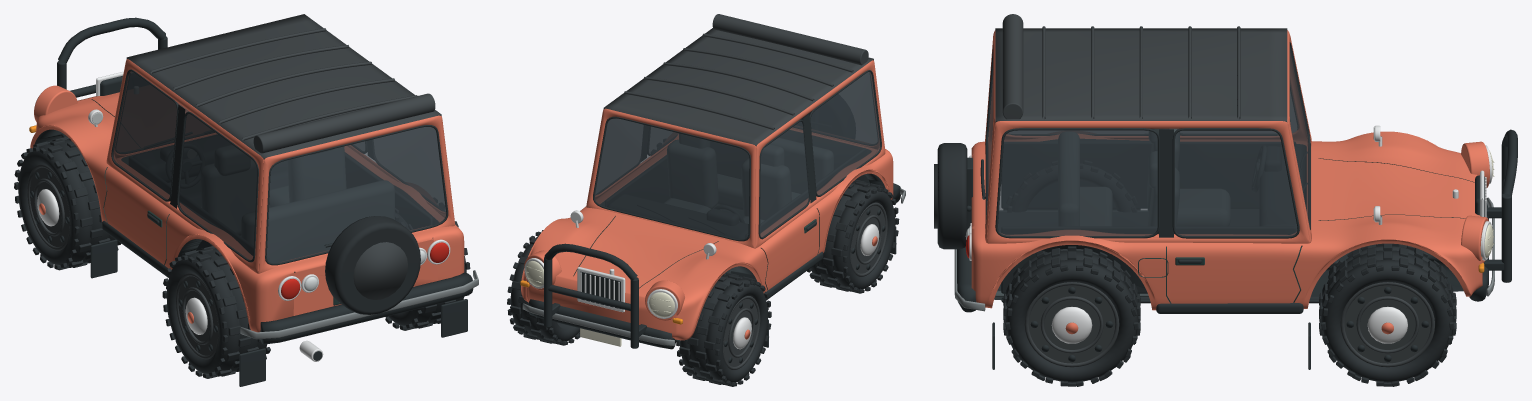
Rendered from tumbler.fbx.
3 views of the same model, side by side, from view 1: azimuth 30°, elevation 25°; view 2: azimuth 150°, elevation 25°; view 3: azimuth 270°, elevation 25° (orthographic). The views are drawn at different scales.
Visible parts, largest first — view 1: Body, Wheel_FL_Mesh, Wheel_RL_Mesh, Wheel_RR_Mesh; view 2: Body, Wheel_FL_Mesh, Wheel_RL_Mesh, Wheel_FR_Mesh; view 3: Body, Wheel_FR_Mesh, Wheel_RR_Mesh, Wheel_RL_Mesh.
Part boxes in pixels (left/top/right/bottom): Body: left=29, top=14, right=478, bottom=386; Wheel_FL_Mesh: left=14, top=137, right=121, bottom=270; Wheel_RL_Mesh: left=162, top=246, right=270, bottom=378; Wheel_RR_Mesh: left=385, top=208, right=470, bottom=330; Body: left=520, top=14, right=905, bottom=349; Wheel_FL_Mesh: left=676, top=272, right=771, bottom=386; Wheel_RL_Mesh: left=807, top=179, right=899, bottom=293; Wheel_FR_Mesh: left=507, top=230, right=580, bottom=345; Body: left=934, top=14, right=1517, bottom=369; Wheel_FR_Mesh: left=1319, top=243, right=1456, bottom=386; Wheel_RR_Mesh: left=1003, top=246, right=1140, bottom=386; Wheel_RL_Mesh: left=1003, top=160, right=1140, bottom=212.
Bounding box in the file's own units: 210 × 200 × 396.
